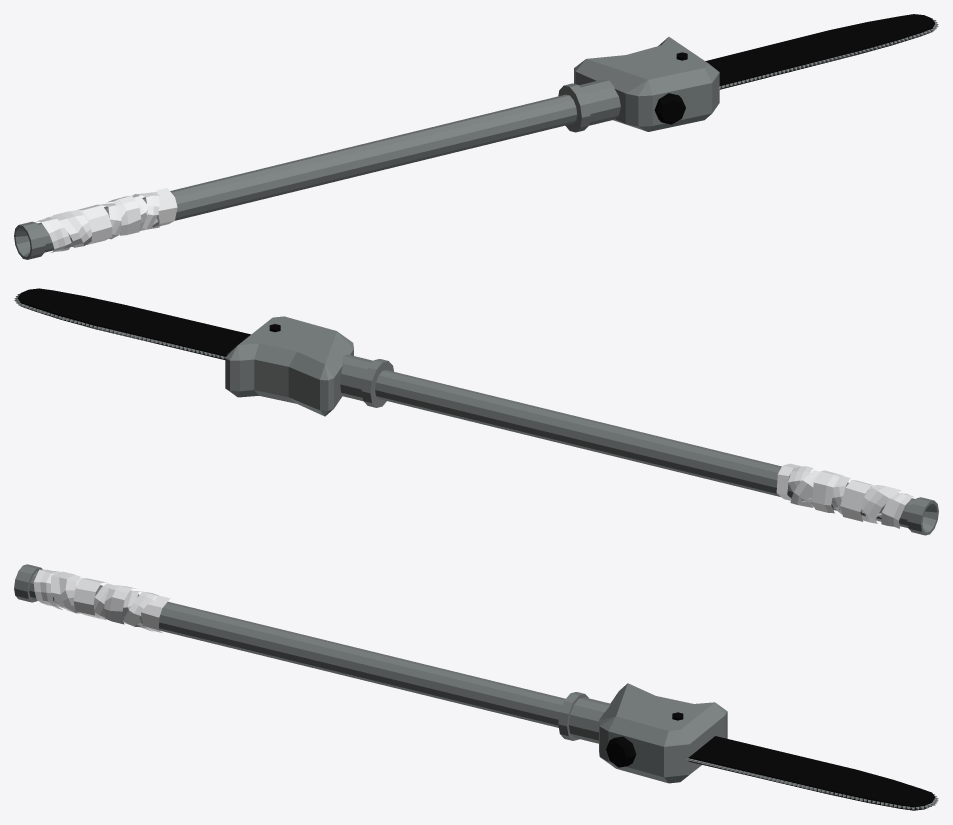
Rendered from scene_LxeCgtrTi4.glb.
3 views of the same model, one above another, from view 1: azimuth 30°, elevation 25°; view 2: azimuth 150°, elevation 25°; view 3: azimuth 330°, elevation 25° (orthographic).
Visible parts, largest first — view 1: Chainsaw_Sword; view 2: Chainsaw_Sword; view 3: Chainsaw_Sword.
Boxes of the visible parts, x1,y1,x2,y2 form: Chainsaw_Sword: (14,14,938,259); Chainsaw_Sword: (14,288,938,535); Chainsaw_Sword: (14,564,938,810).
Bounding box in the file's own units: 2.94 × 0.1791 × 0.3265.
Materials: 1 (1 with a texture image).
